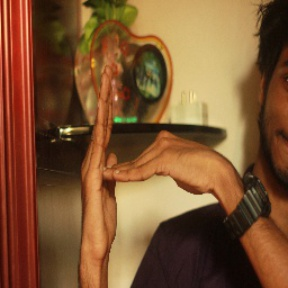Z: (74, 65, 223, 256)
